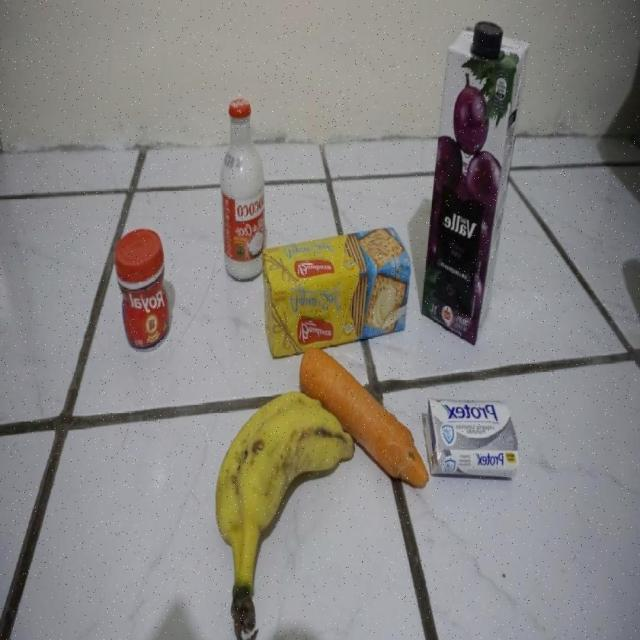Banana: (214, 390, 354, 638)
Carrot: (299, 346, 428, 488)
CoconutMilk: (219, 98, 266, 282)
Cracker: (262, 226, 409, 359)
Soap: (425, 401, 517, 480)
Yeast: (114, 230, 169, 353)
